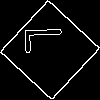L: (25, 25, 72, 55)
